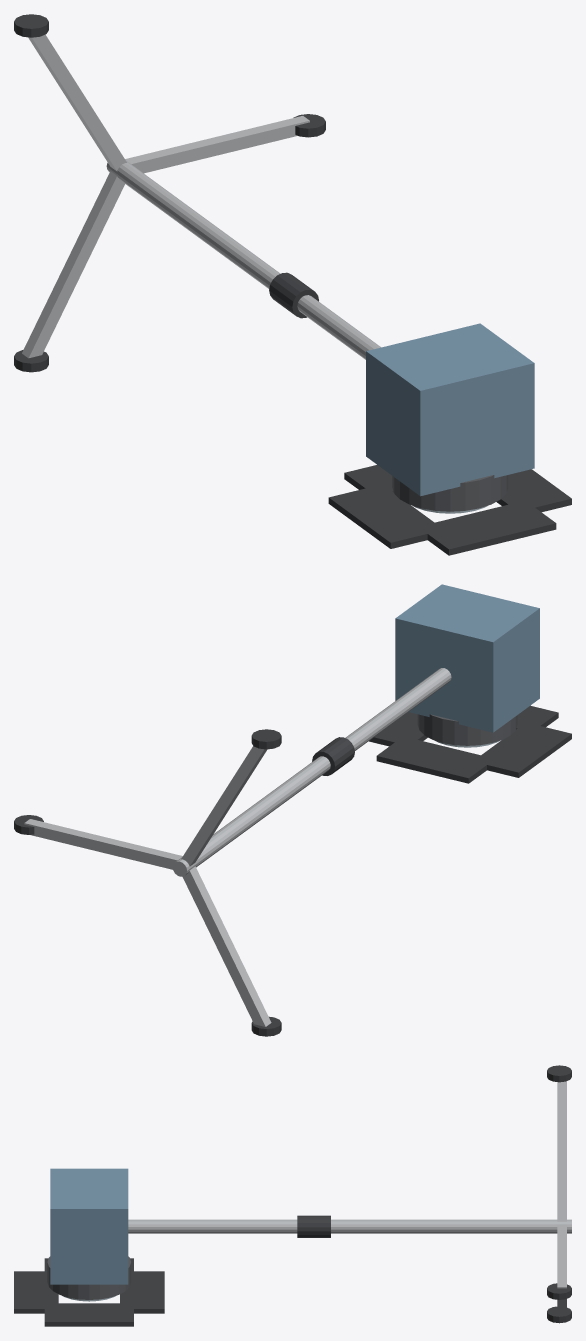
The model's file is light_fresnel_stand.glb.
3 renders of one model, top to bottom at view 1: azimuth 30°, elevation 25°; view 2: azimuth 150°, elevation 25°; view 3: azimuth 270°, elevation 25°, orthographic. The views are drawn at different scales.
Parts seen in each view (by area): view 1: fresnel_body, stand_column, barndoor_0, leg_2, barndoor_2, leg_0, leg_1, fresnel_front, barndoor_3, stand_clamp, barndoor_1, wheel_1; view 2: fresnel_body, stand_column, barndoor_1, leg_2, barndoor_2, leg_0, leg_1, fresnel_front, barndoor_3, stand_clamp, barndoor_0; view 3: fresnel_body, stand_column, barndoor_3, barndoor_1, barndoor_0, leg_1, fresnel_front, stand_clamp, leg_0, wheel_1.
Part boxes in pixels (bbox=[...]): fresnel_body: bbox=[366, 323, 534, 496]; stand_column: bbox=[106, 160, 380, 359]; barndoor_0: bbox=[418, 501, 556, 555]; leg_2: bbox=[22, 171, 124, 358]; barndoor_2: bbox=[328, 488, 443, 548]; leg_0: bbox=[125, 116, 309, 173]; leg_1: bbox=[28, 34, 126, 171]; fresnel_front: bbox=[392, 475, 508, 511]; barndoor_3: bbox=[496, 469, 571, 512]; stand_clamp: bbox=[269, 272, 318, 318]; barndoor_1: bbox=[344, 465, 393, 495]; wheel_1: bbox=[14, 14, 48, 37]; fresnel_body: bbox=[395, 584, 539, 732]; stand_column: bbox=[172, 668, 451, 876]; barndoor_1: bbox=[376, 736, 494, 783]; leg_2: bbox=[182, 866, 271, 1026]; barndoor_2: bbox=[477, 722, 571, 777]; leg_0: bbox=[24, 819, 182, 869]; leg_1: bbox=[181, 746, 267, 866]; fresnel_front: bbox=[417, 714, 517, 745]; barndoor_3: bbox=[369, 712, 427, 746]; stand_clamp: bbox=[312, 737, 354, 775]; barndoor_0: bbox=[516, 705, 558, 731]; fresnel_body: bbox=[50, 1168, 128, 1284]; stand_column: bbox=[128, 1219, 571, 1233]; barndoor_3: bbox=[44, 1303, 133, 1326]; barndoor_1: bbox=[120, 1271, 164, 1313]; barndoor_0: bbox=[14, 1271, 58, 1313]; leg_1: bbox=[557, 1081, 566, 1221]; fresnel_front: bbox=[47, 1256, 131, 1299]; stand_clamp: bbox=[297, 1215, 330, 1237]; leg_0: bbox=[557, 1224, 566, 1288]; wheel_1: bbox=[547, 1065, 571, 1082].
Size of the model in its own units: 0.915 by 0.9776 by 2.
